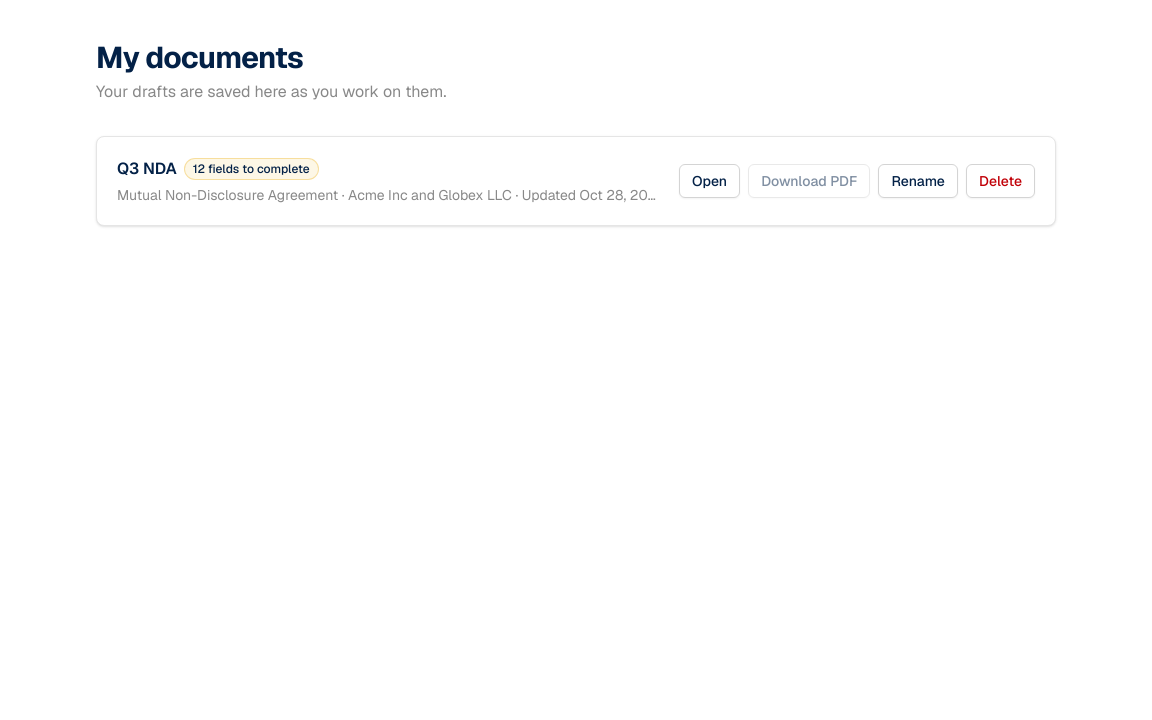
Test: renaming a document › sends nothing when the name is unchanged
This screenshot has width=1152, height=720.
Click the button "Rename": [918, 181] box [878,164,958,198]
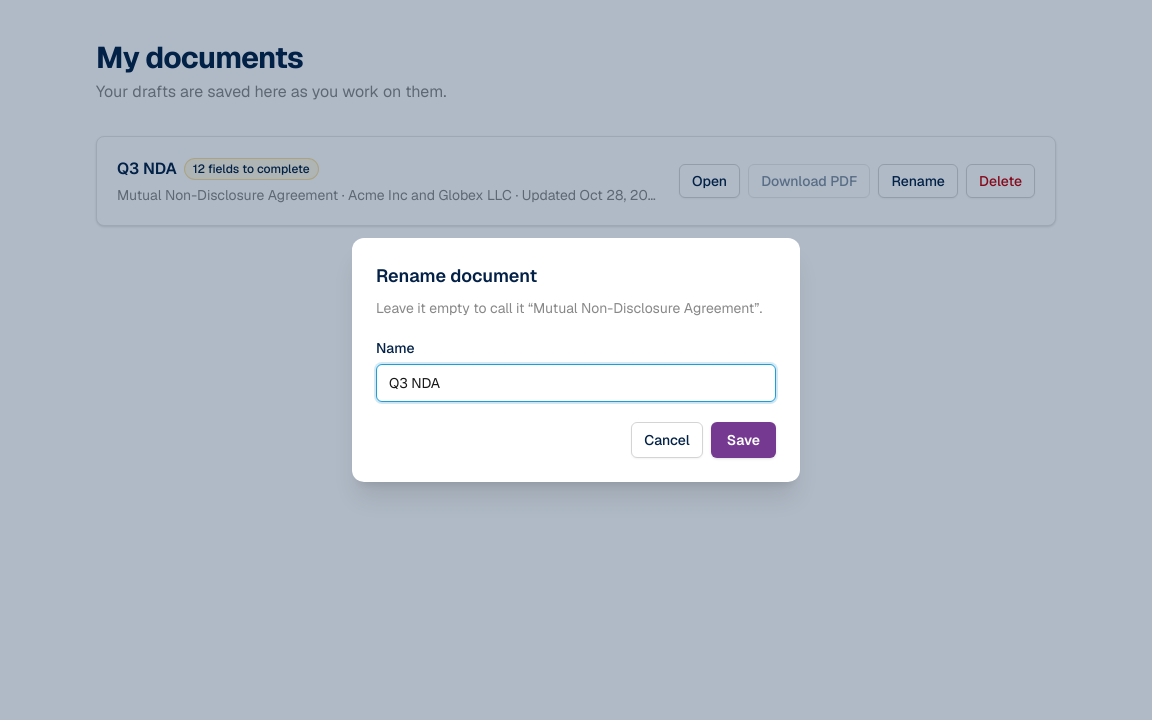
Click the button "Save": [743, 440] box [711,422,776,458]
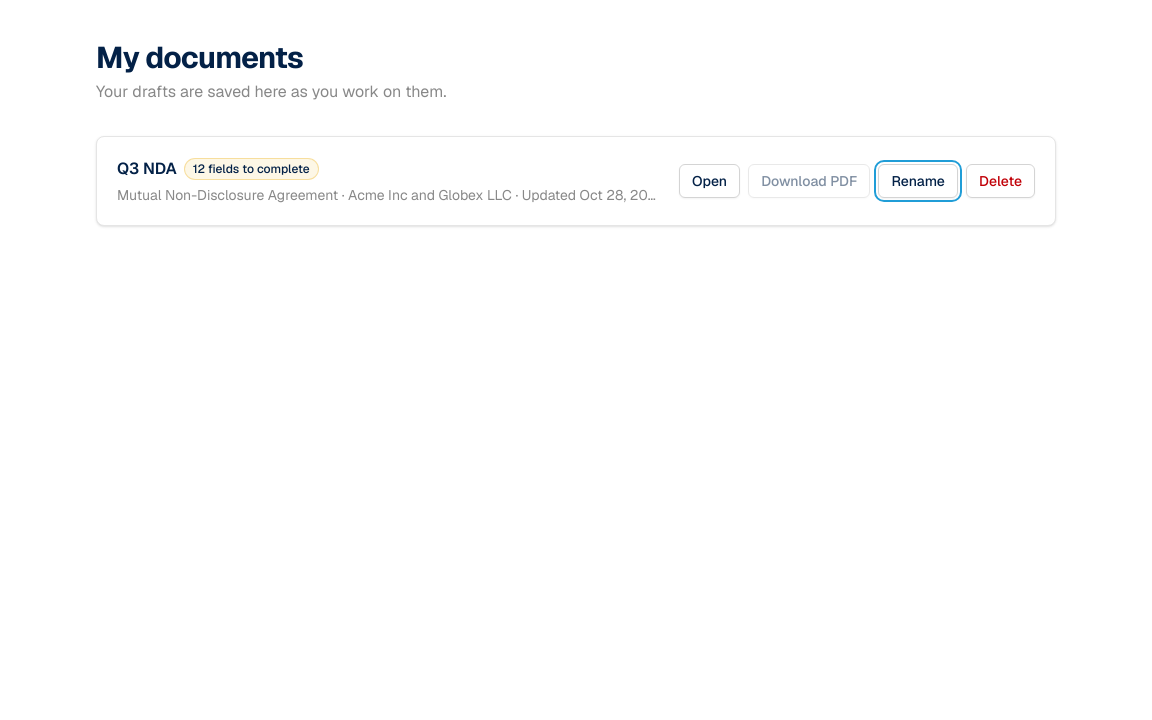
Check: the dialog is gone
